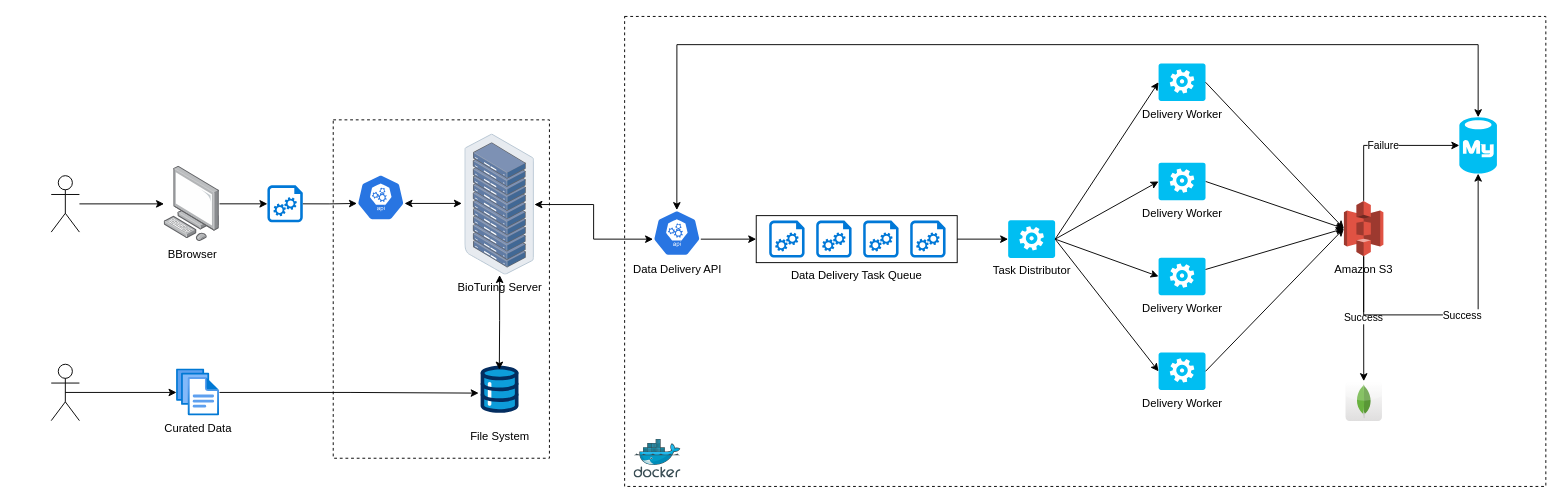
This 1562x503 diagram has some shape labels left out. The centre of each missing label's shape, as x and y in pixels:
BBrowser API: (x=380, y=197)
Data Administrator: (x=64, y=203)
Data Science Team: (x=64, y=392)
Delivery Status Log DB: (x=1477, y=145)
MongoDB (Store data entries: title, abstract, s3 link, etc): (x=1363, y=400)
Publish Data Request: (x=284, y=203)
